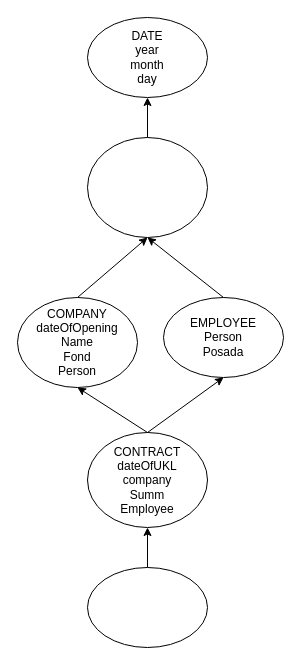
Some shapes in this 301 by 665 pixel diagram are drawn without their labels. Here are the shapes that lost their labels. From the top down, the centre of each, then its label:
At (147,187): "PERSON name surname dateOfBirth telNum".
At (147,607): "LIST OF CONTRACTS".
